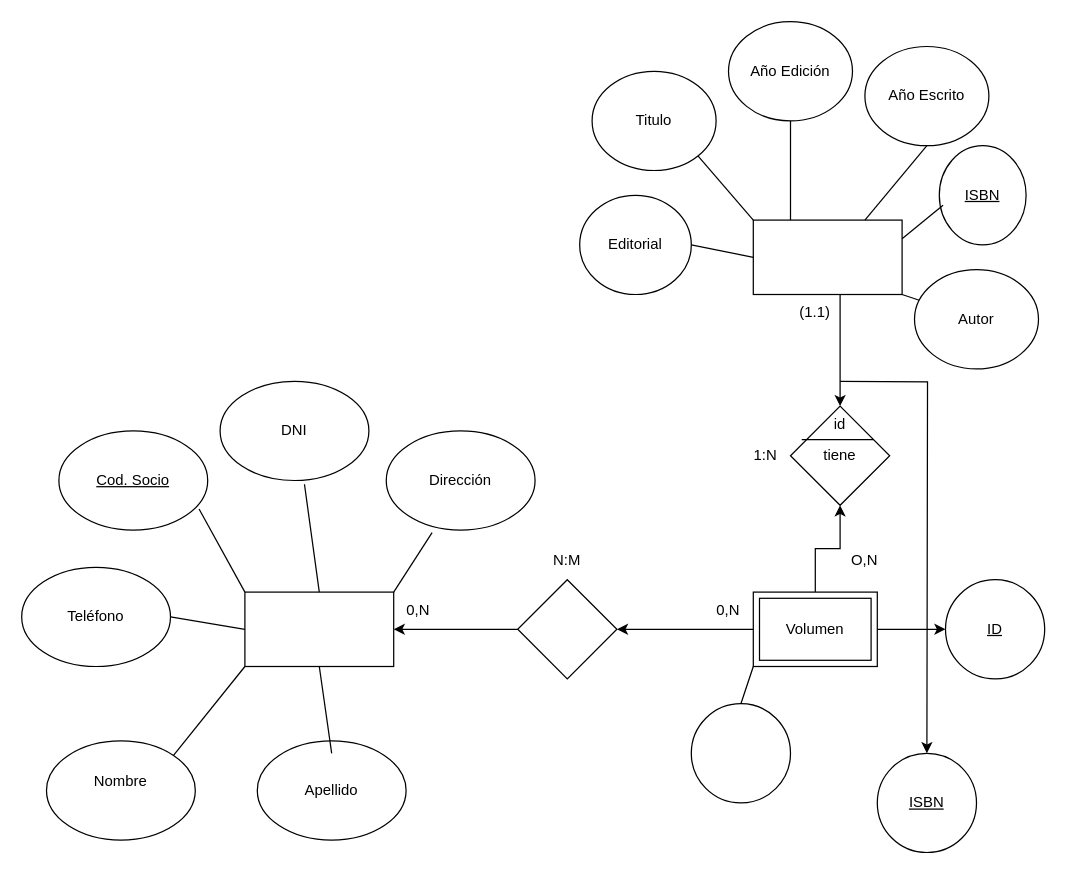
Some shapes in this 1066 by 874 pixel diagram are drawn without their labels. The shapes that lost their labels are listed below. From the top down, each one's centre as x and y in pixels, then its label:
At [827,256]: "Libro".
At [319,628]: "socios".
At [566,628]: "Prestado".
At [740,752]: "Estado".
